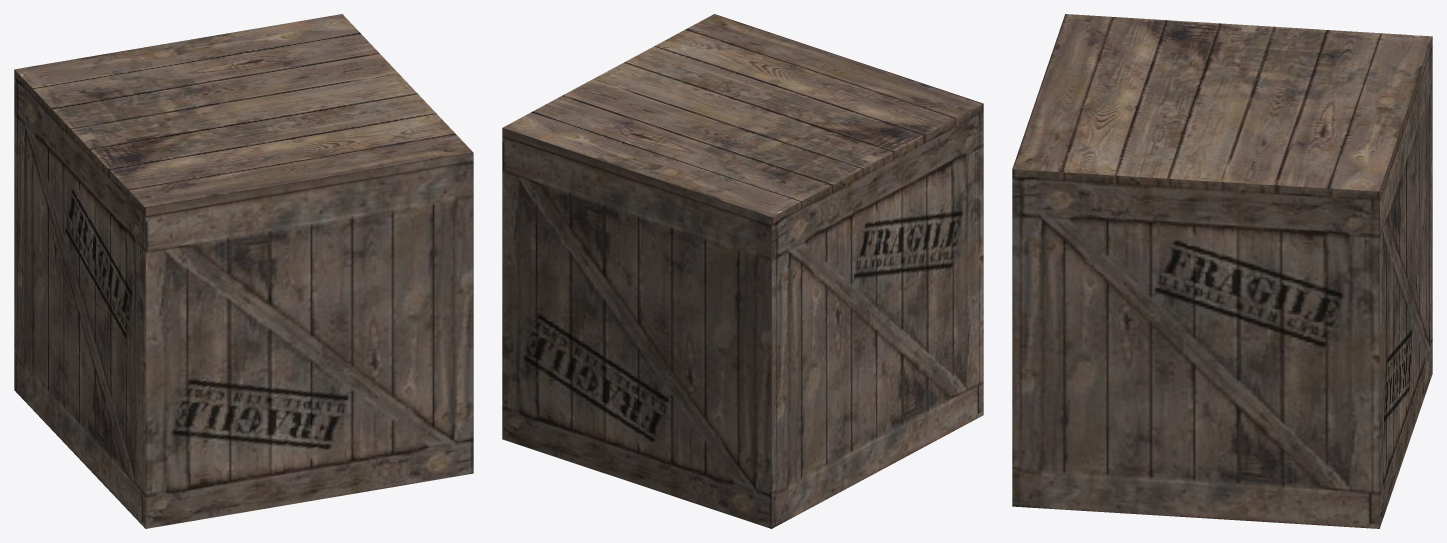
File: Wooden_box_v1_LD1square.glb
The picture shows the model from 3 angles, left to right: view 1: azimuth 30°, elevation 25°; view 2: azimuth 150°, elevation 25°; view 3: azimuth 270°, elevation 25°; orthographic projection. The views are drawn at different scales.
Visible parts, largest first — view 1: Wooden_box_v1_LD1square; view 2: Wooden_box_v1_LD1square; view 3: Wooden_box_v1_LD1square.
Part boxes in pixels (left/top/right/bottom): Wooden_box_v1_LD1square: left=14, top=14, right=473, bottom=528; Wooden_box_v1_LD1square: left=502, top=14, right=983, bottom=528; Wooden_box_v1_LD1square: left=1012, top=14, right=1432, bottom=528.
Bounding box in the file's own units: 0.9175 × 0.8124 × 0.9175.
1 material, 1 textured.
